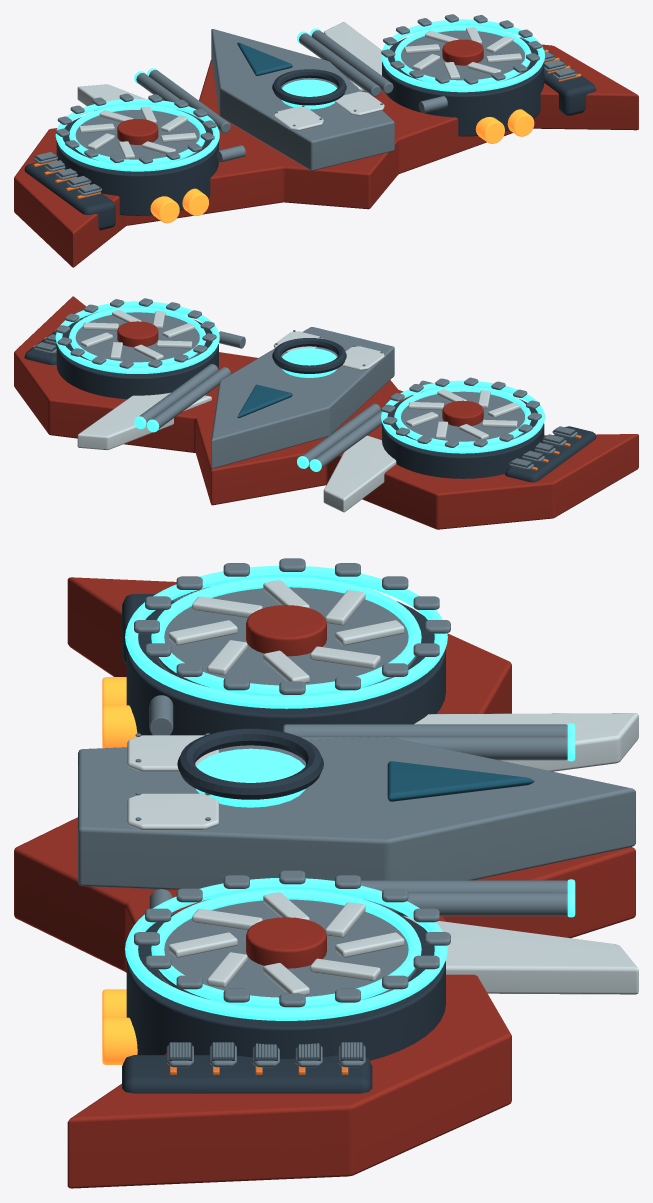
File: Tempest.fbx
3 renders of one model, top to bottom at view 1: azimuth 30°, elevation 25°; view 2: azimuth 150°, elevation 25°; view 3: azimuth 270°, elevation 25°, orthographic. The views are drawn at different scales.
Parts seen in each view (by area): view 1: Storm crescent.002, Diamond bridge.002, Turbine armored drum.004, Turbine armored drum.005, Recessed turbine well.005, Recessed turbine well.004, Turbine ion ring.009, Turbine ion ring.011, Missile magazine.004, Turbine ion ring.008, Turbine ion ring.010, Reactor cage.002 (+17 smaller); view 2: Storm crescent.002, Diamond bridge.002, Turbine armored drum.004, Turbine armored drum.005, Forward stabilizer.004, Forward stabilizer.005, Recessed turbine well.005, Recessed turbine well.004, Turbine ion ring.011, Turbine ion ring.009, Turbine ion ring.008, Turbine ion ring.010 (+14 smaller); view 3: Storm crescent.002, Diamond bridge.002, Turbine armored drum.005, Forward stabilizer.005, Turbine armored drum.004, Recessed turbine well.004, Recessed turbine well.005, Missile magazine.005, Turbine ion ring.009, Turbine ion ring.011, Turbine ion ring.008, Turbine ion ring.010 (+23 smaller).
Boxes of the visible parts, x1,y1,x2,y2 form: Storm crescent.002: [14, 44, 638, 267]; Diamond bridge.002: [211, 29, 394, 170]; Turbine armored drum.004: [56, 117, 218, 215]; Turbine armored drum.005: [382, 37, 544, 136]; Recessed turbine well.005: [399, 30, 530, 80]; Recessed turbine well.004: [73, 110, 205, 160]; Turbine ion ring.009: [55, 98, 219, 171]; Turbine ion ring.011: [381, 19, 544, 92]; Missile magazine.004: [24, 162, 115, 230]; Turbine ion ring.008: [69, 104, 205, 165]; Turbine ion ring.010: [394, 25, 531, 85]; Reactor cage.002: [272, 69, 346, 105]; Storm crescent.002: [14, 296, 638, 529]; Diamond bridge.002: [211, 327, 394, 468]; Turbine armored drum.004: [382, 399, 544, 478]; Turbine armored drum.005: [56, 319, 218, 399]; Forward stabilizer.004: [323, 435, 396, 512]; Forward stabilizer.005: [77, 392, 211, 450]; Recessed turbine well.005: [70, 312, 205, 362]; Recessed turbine well.004: [395, 391, 530, 441]; Turbine ion ring.011: [55, 301, 219, 373]; Turbine ion ring.009: [381, 380, 544, 453]; Turbine ion ring.008: [394, 386, 531, 447]; Turbine ion ring.010: [69, 307, 205, 367]; Storm crescent.002: [14, 577, 635, 1188]; Diamond bridge.002: [78, 736, 635, 889]; Turbine armored drum.005: [126, 913, 445, 1060]; Forward stabilizer.005: [404, 916, 638, 994]; Turbine armored drum.004: [126, 601, 445, 735]; Recessed turbine well.004: [156, 587, 416, 687]; Recessed turbine well.005: [156, 899, 416, 999]; Missile magazine.005: [122, 1055, 372, 1093]; Turbine ion ring.009: [125, 565, 447, 708]; Turbine ion ring.011: [125, 878, 447, 1020]; Turbine ion ring.008: [151, 576, 421, 696]; Turbine ion ring.010: [151, 889, 421, 1008].
Size of the model in its own units: 1079 by 151 by 525.
